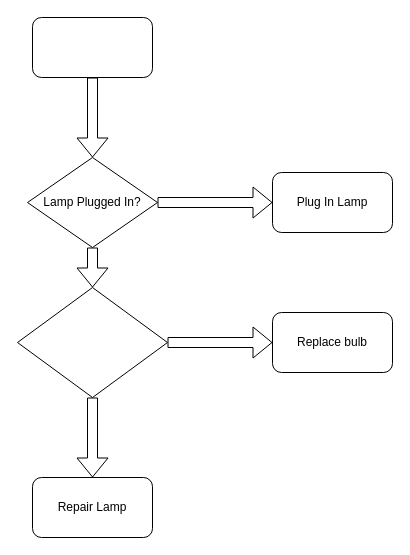
This 410x555 diagram has some shape labels left out. Here are the shapes that lost their labels. From the top down, the centre of each, then its label:
At pixel 92 47: "Lamp doesn't work".
At pixel 92 342: "Bulb burned out?".
